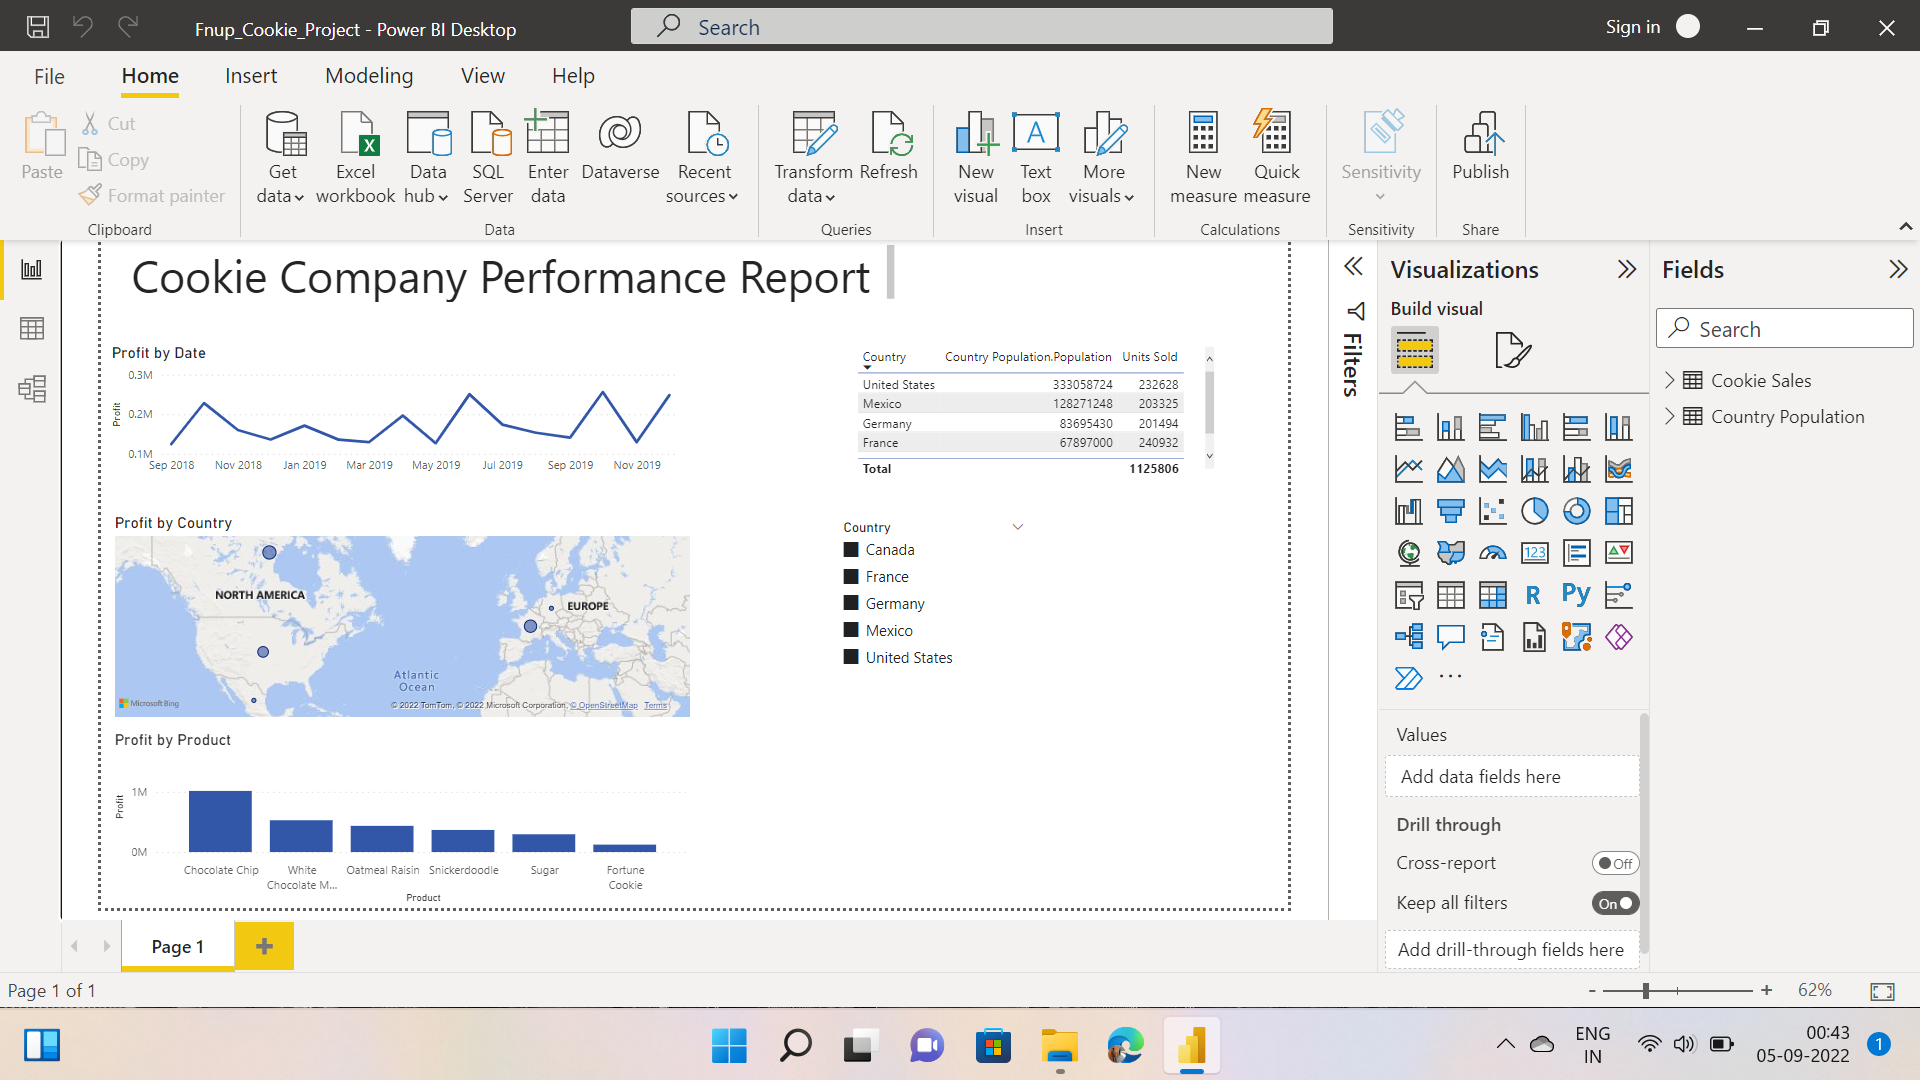

What the dashboard file says about the page in this screenshot:
{"tool":"powerbi","page":{"name":"Page 1","canvas":[1280,720],"ordinal":0},"visuals":[{"type":"textbox","box":[9.7,0,851.1,71.2],"z":0},{"type":"lineChart","fields":{"Category":["Cookie Sales.Date"],"Y":["Sum(Cookie Sales.Profit)"]},"box":[6.5,111.6,637.5,148.9],"z":1000},{"type":"map","fields":{"Category":["Cookie Sales.Country"],"Size":["Sum(Cookie Sales.Profit)"]},"box":[9.7,294.5,631,224.9],"z":2000},{"type":"tableEx","fields":{"Values":["Cookie Sales.Country","Cookie Sales.Country Population.Population","Sum(Cookie Sales.Units Sold)"]},"box":[810.6,110,394.8,150.5],"z":3000},{"type":"clusteredColumnChart","fields":{"Category":["Cookie Sales.Product"],"Y":["Sum(Cookie Sales.Profit)"]},"box":[10,529,631,191],"z":4000},{"type":"slicer","fields":{"Values":["Cookie Sales.Country"]},"box":[788,296.1,220,224.9],"z":4001}]}

Visuals, with their boxes on the page's 1280x720 design canvas (x1, y1, x2, y2). These are canvas units, not pixel positions in the 1920x1080 screenshot, which may show the page scaled, cropped or inside an application window:
textbox: (left=10, top=0, right=861, bottom=71)
lineChart - Cookie Sales.Date x Sum(Cookie Sales.Profit): (left=6, top=112, right=644, bottom=260)
map - Cookie Sales.Country x Sum(Cookie Sales.Profit): (left=10, top=294, right=641, bottom=519)
tableEx - Cookie Sales.Country x Cookie Sales.Country Population.Population: (left=811, top=110, right=1205, bottom=260)
clusteredColumnChart - Cookie Sales.Product x Sum(Cookie Sales.Profit): (left=10, top=529, right=641, bottom=720)
slicer - Cookie Sales.Country: (left=788, top=296, right=1008, bottom=521)
